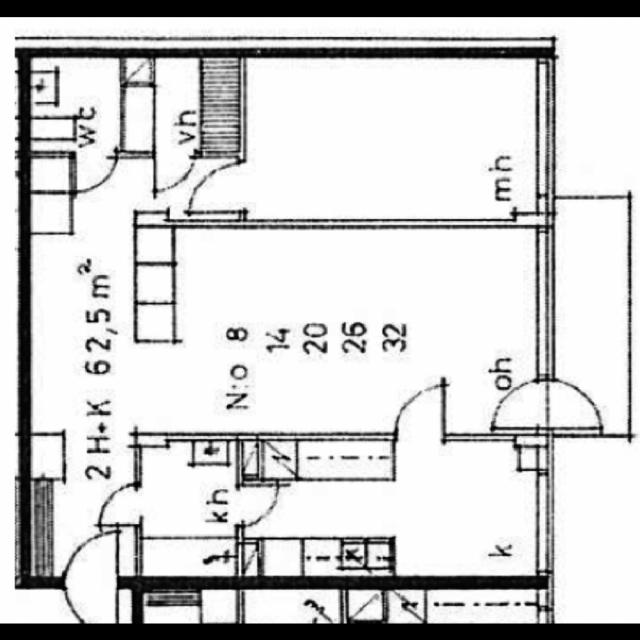door: (64, 524, 118, 590), (64, 575, 118, 640), (536, 379, 606, 428), (484, 379, 554, 428), (188, 164, 247, 212), (396, 388, 444, 440), (92, 484, 141, 524), (75, 151, 117, 197), (237, 486, 285, 524), (155, 151, 193, 193)
